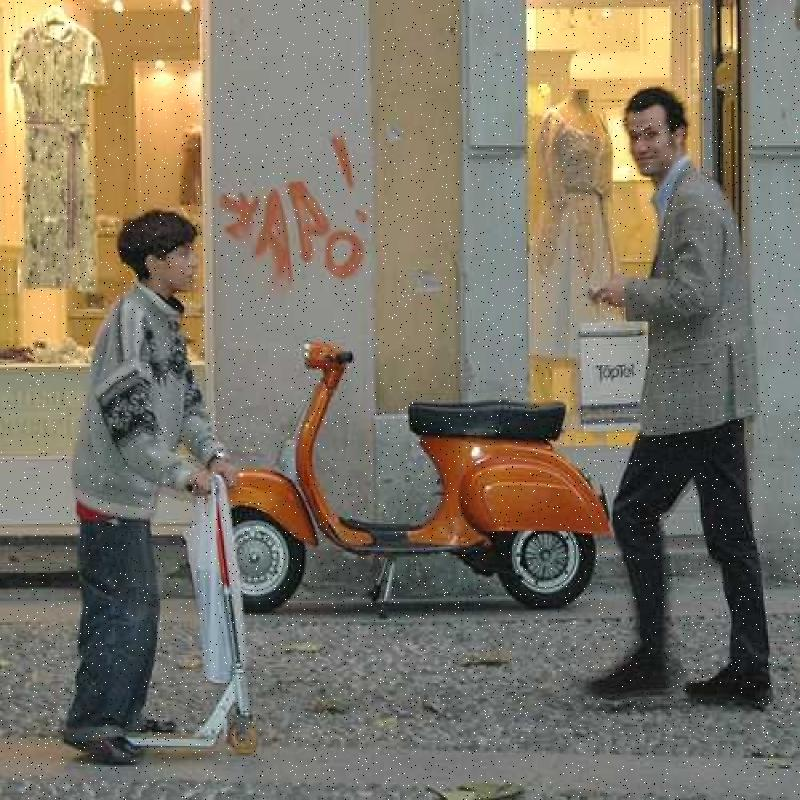bike: (239, 315, 589, 597)
